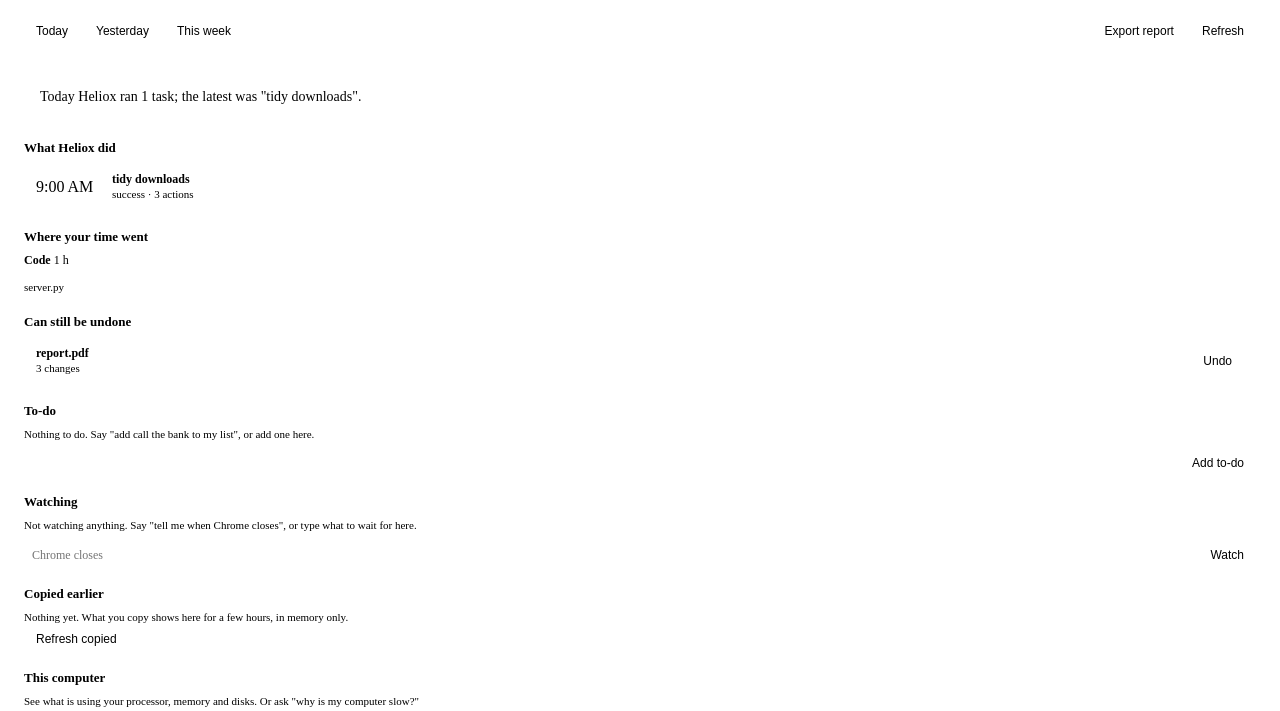
Scenario: TodayPanel › switches to yesterday and saves the brief settings
Expected: the text "Today Heliox ran 1 task; the latest was \"tidy downloads\"." is shown, [40, 89, 362, 104]
Click the button "Yesterday" at {"x": 122, "y": 31}, box [84, 18, 161, 44]
(page scrolled)
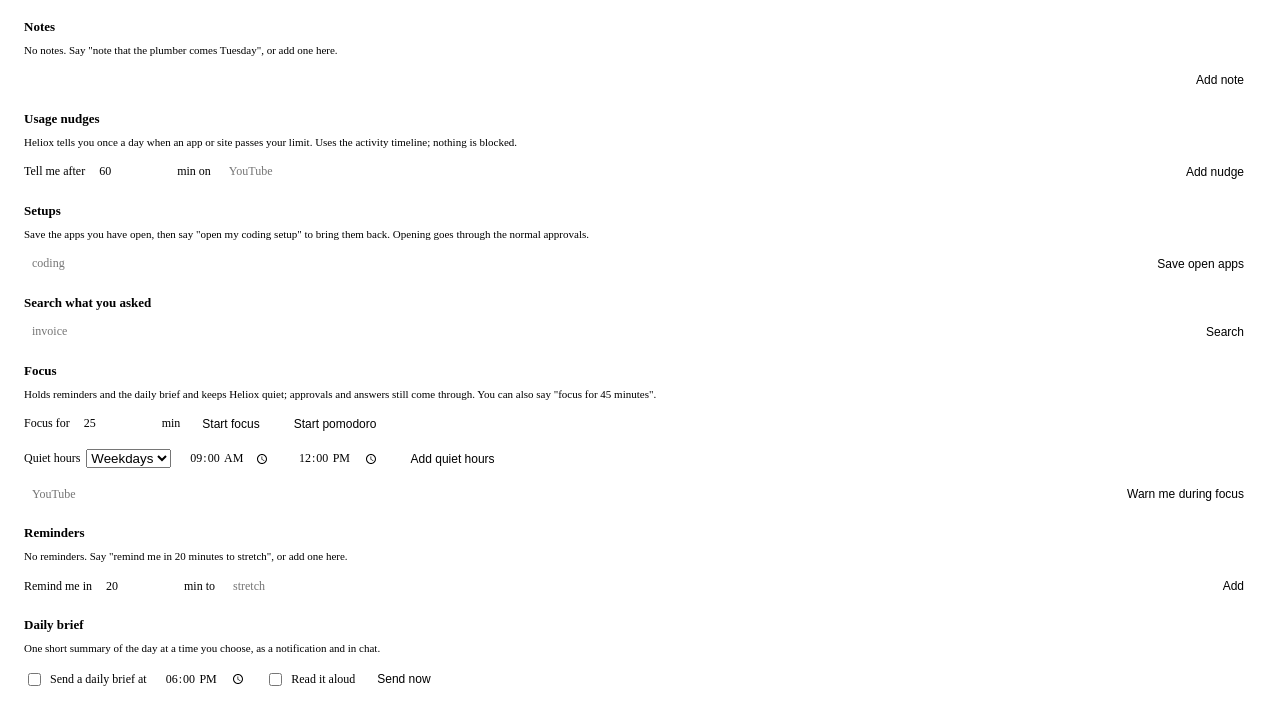
Click the checkbox labelled "Send a daily brief at" at {"x": 34, "y": 680}, box [28, 673, 41, 686]
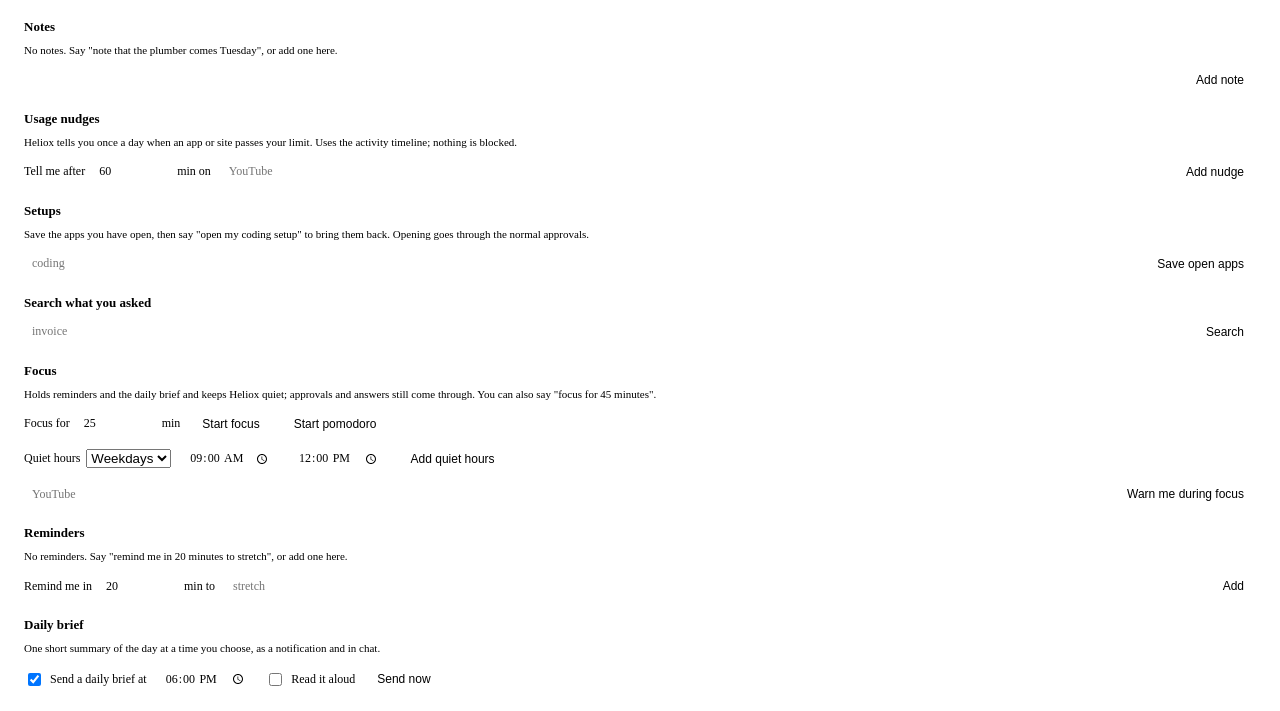
Click the button "Send now" at {"x": 404, "y": 680}, box [365, 666, 443, 692]
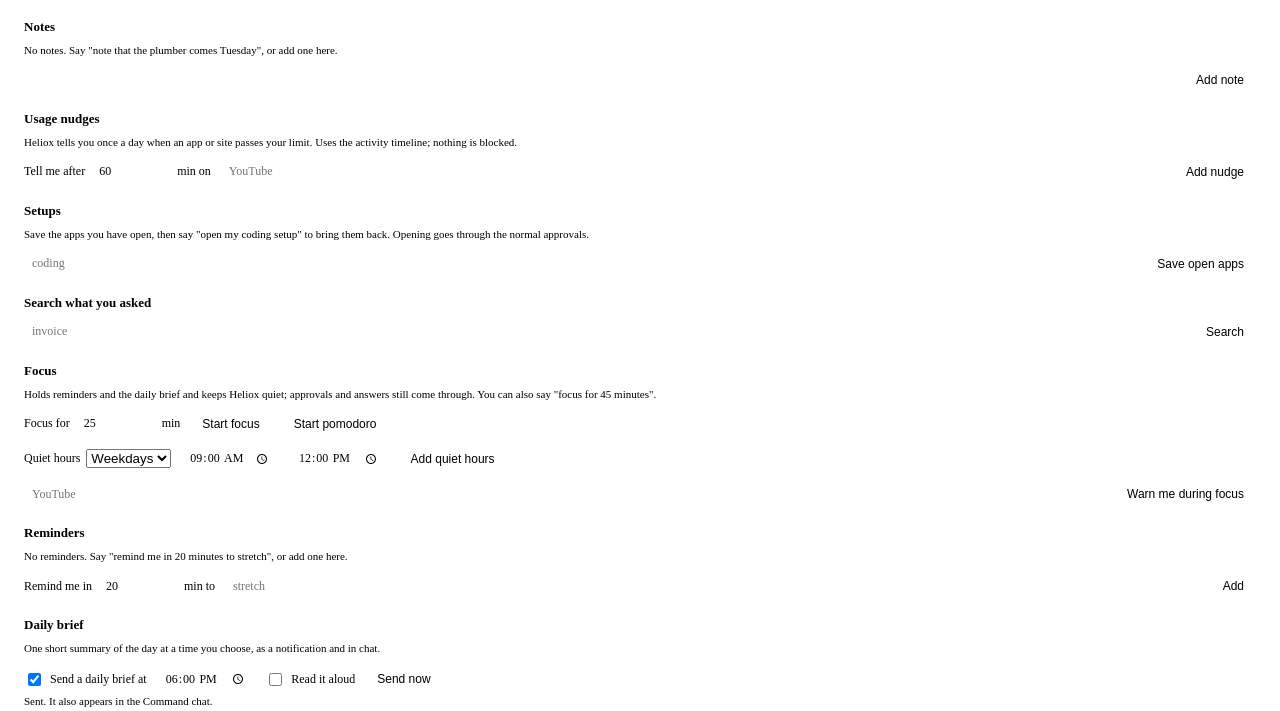
Now the message shows "Sent.", box [24, 695, 212, 707]
